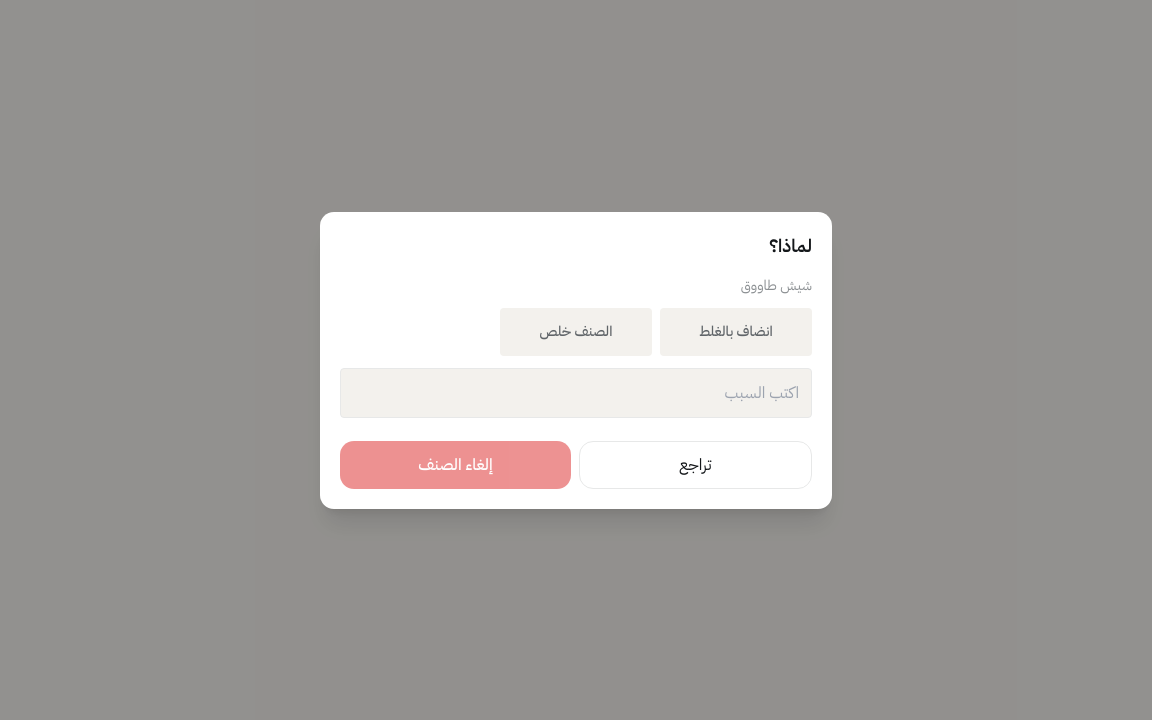
asking why › a second tap replaces the answer rather than adding to it
The image size is (1152, 720).
Click the button "انضاف بالغلط". click: (736, 332)
box: x1=660 y1=308 x2=812 y2=356
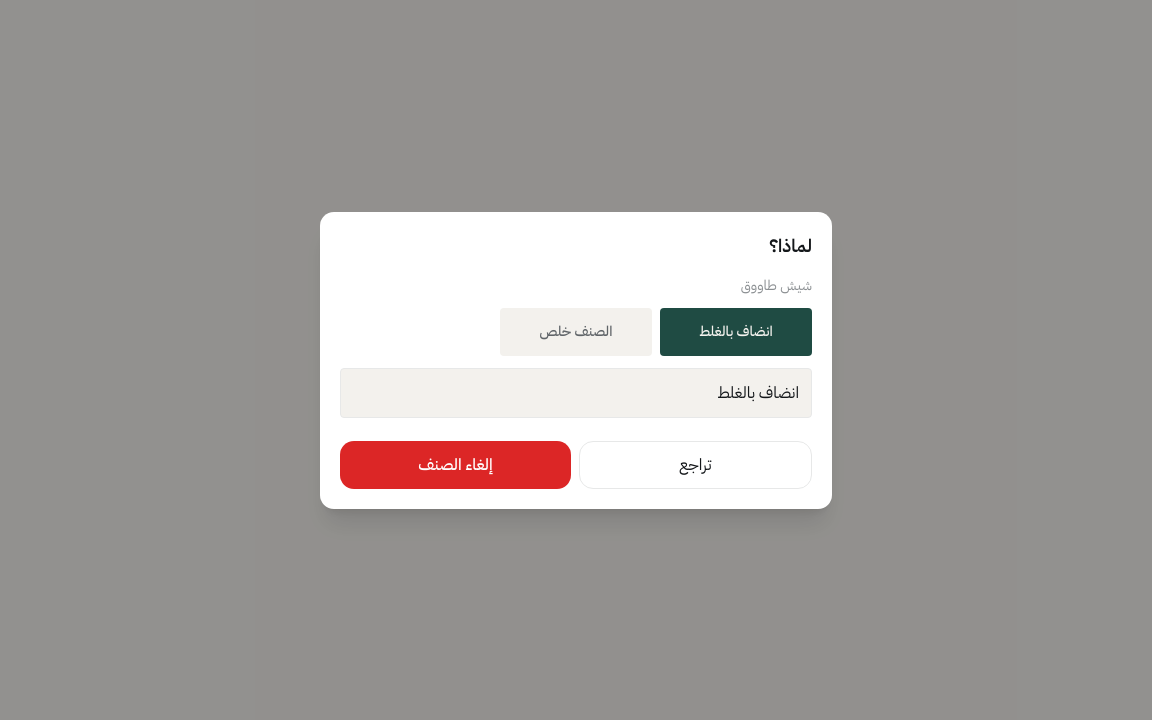
Click the button "الصنف خلص". click: (576, 332)
box: x1=500 y1=308 x2=652 y2=356
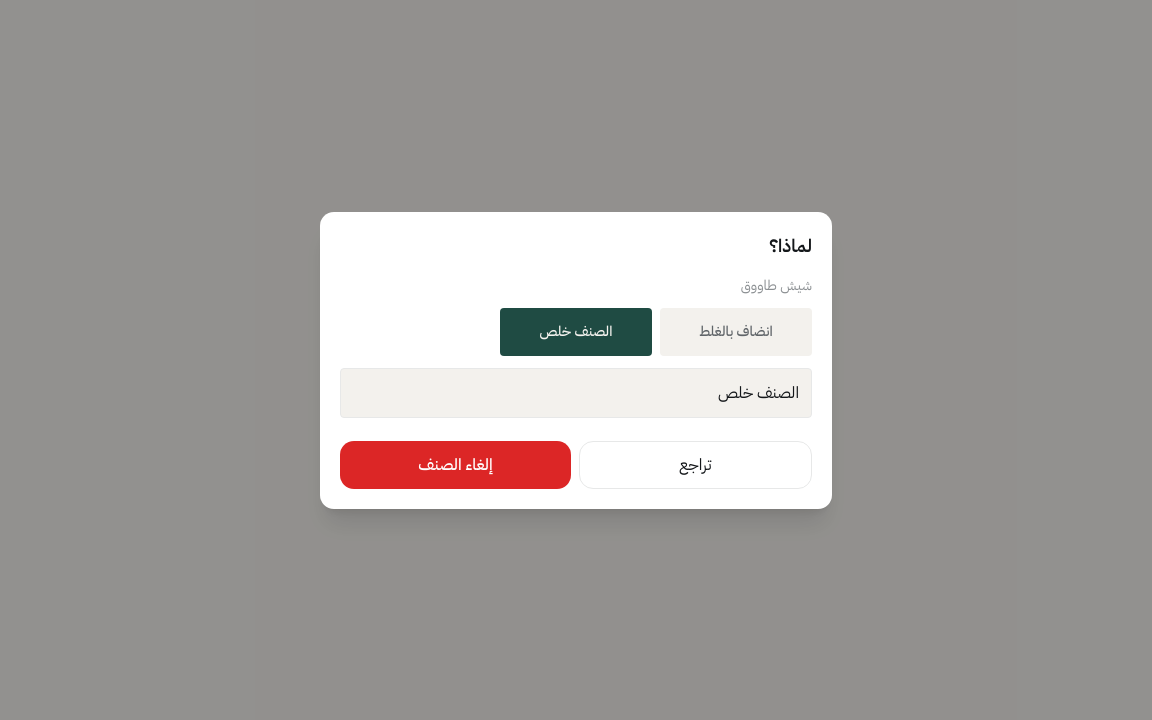
Now the text box holds "الصنف خلص", box x1=340 y1=368 x2=812 y2=418
